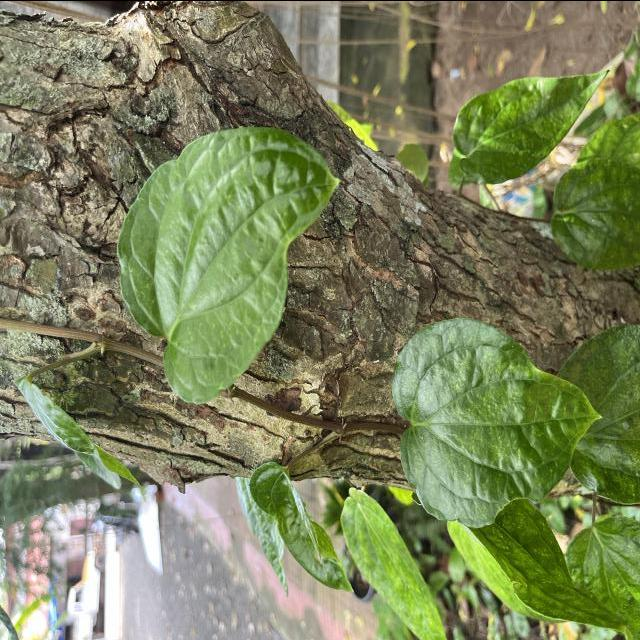Piper betle: (390, 314, 604, 529)
